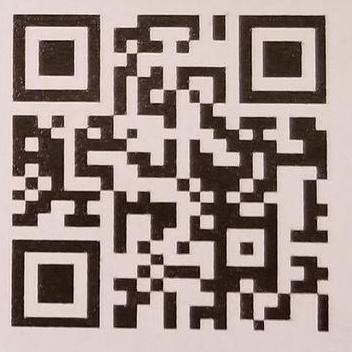qrcode: (11, 14, 331, 334)
